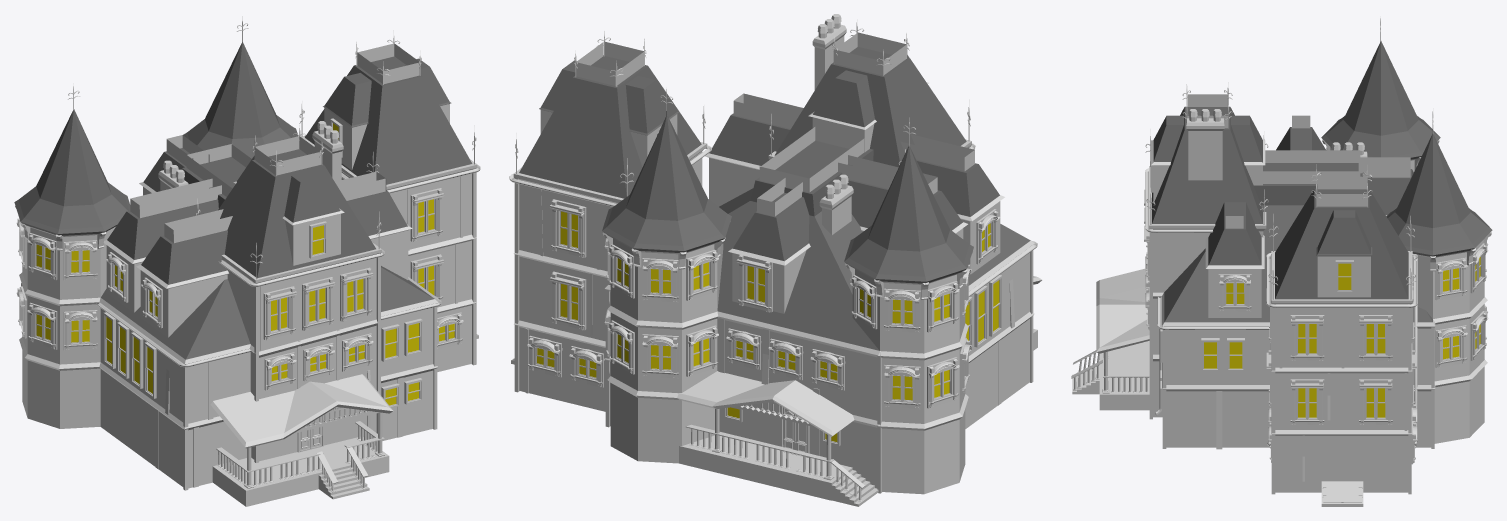
The model's file is Haunted_House.fbx.
3 views of the same model, side by side, from view 1: azimuth 30°, elevation 25°; view 2: azimuth 150°, elevation 25°; view 3: azimuth 270°, elevation 25° (orthographic). The views are drawn at different scales.
Visible parts, largest first — view 1: tower1_Cylinder, base3-top-roof_Cube.010, base2-top-roof_Cube.006, base1-bottom_Cube, windowpart2_Cube.012, base1-middle_Cube.002, base1-top-roof_Cube.003, verandatak2_Cube.029, tower2_Cylinder.001, golv2_Cube.028, part1_Cube.014, windowpart3_Cube.013 (+53 smaller); view 2: tower2_Cylinder.001, tower1_Cylinder, base2-top-roof_Cube.006, base1-top-roof_Cube.003, base1-bottom_Cube, base3-top-roof_Cube.010, windowpart2_Cube.012, base1-middle_Cube.002, golv1_Cube.033, verandatak1_Cube.034, windowpart1_Cube.011, base2-middle_Cube.005 (+53 smaller); view 3: tower2_Cylinder.001, base2-top-roof_Cube.006, base3-top-roof_Cube.010, base2-bottom_Cube.004, tower1_Cylinder, base1-top-roof_Cube.003, base1-bottom_Cube, base1-middle_Cube.002, base2-middle_Cube.005, windowpart2_Cube.012, verandatak2_Cube.029, windowpart4_Cube.030 (+38 smaller).
Boxes of the visible parts, box(x1,y1,x2,y2) form: tower1_Cylinder: box(14, 109, 130, 428); base3-top-roof_Cube.010: box(218, 149, 381, 347); base2-top-roof_Cube.006: box(305, 56, 476, 249); base1-bottom_Cube: box(100, 369, 433, 488); windowpart2_Cube.012: box(140, 190, 408, 337); base1-middle_Cube.002: box(100, 280, 434, 423); base1-top-roof_Cube.003: box(101, 157, 433, 359); verandatak2_Cube.029: box(210, 374, 393, 448); tower2_Cylinder.001: box(183, 42, 298, 158); golv2_Cube.028: box(212, 437, 389, 506); part1_Cube.014: box(237, 155, 340, 265); windowpart3_Cube.013: box(106, 199, 218, 312); tower2_Cylinder.001: box(602, 115, 731, 463); tower1_Cylinder: box(844, 145, 973, 494); base2-top-roof_Cube.006: box(514, 55, 706, 271); base1-top-roof_Cube.003: box(609, 140, 1030, 350); base1-bottom_Cube: box(610, 317, 1029, 488); base3-top-roof_Cube.010: box(769, 46, 972, 167); windowpart2_Cube.012: box(709, 113, 1000, 274); base1-middle_Cube.002: box(608, 242, 1029, 420); golv1_Cube.033: box(679, 435, 852, 500); verandatak1_Cube.034: box(677, 371, 854, 436); windowpart1_Cube.011: box(732, 192, 809, 313); base2-middle_Cube.005: box(519, 250, 609, 340); tower2_Cylinder.001: box(1386, 133, 1492, 443); base2-top-roof_Cube.006: box(1271, 188, 1412, 367); base3-top-roof_Cube.010: box(1152, 106, 1263, 292); base2-bottom_Cube.004: box(1275, 436, 1408, 492); tower1_Cylinder: box(1321, 41, 1440, 171); base1-top-roof_Cube.003: box(1164, 163, 1432, 322); base1-bottom_Cube: box(1166, 391, 1431, 447); base1-middle_Cube.002: box(1166, 328, 1431, 384); base2-middle_Cube.005: box(1275, 367, 1408, 429); windowpart2_Cube.012: box(1208, 202, 1261, 317); verandatak2_Cube.029: box(1096, 268, 1149, 353); windowpart4_Cube.030: box(1316, 210, 1372, 297).
Size of the model in its own units: 2771 by 2021 by 2440.
